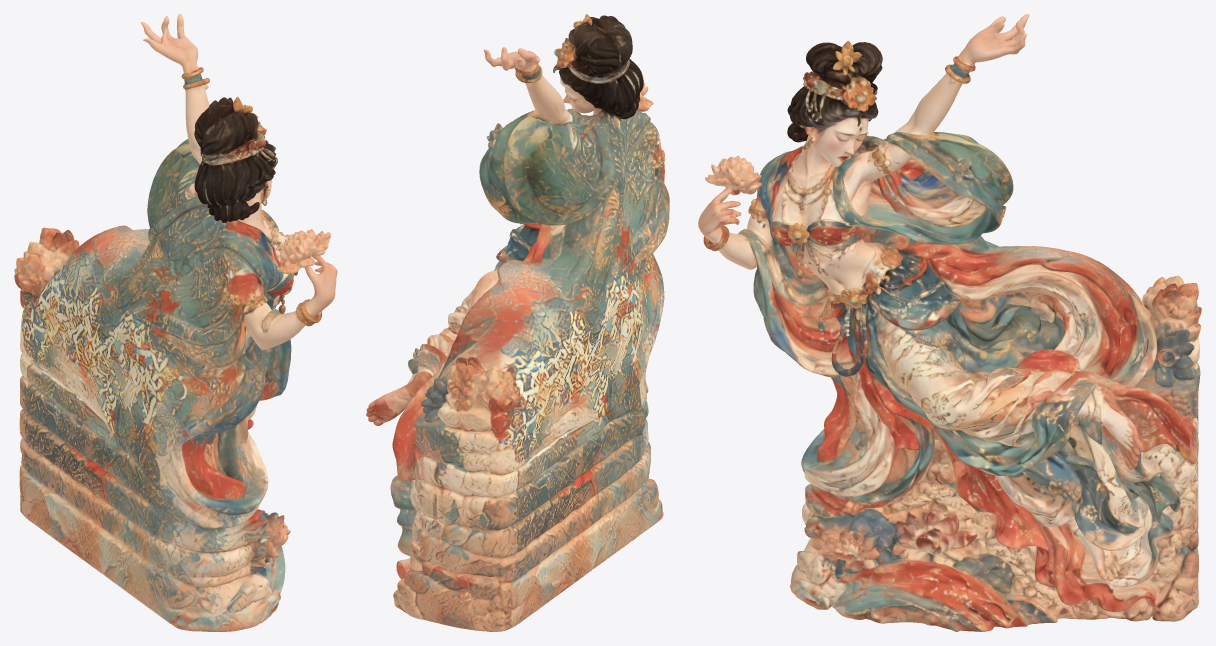
The model's file is apsara-web.glb.
The picture shows the model from 3 angles, left to right: view 1: azimuth 30°, elevation 25°; view 2: azimuth 150°, elevation 25°; view 3: azimuth 270°, elevation 25°; orthographic projection. The views are drawn at different scales.
Visible parts, largest first — view 1: model; view 2: model; view 3: model.
Part boxes in pixels (box(x1,y1,x2,y2)): model: box(14, 14, 337, 631); model: box(366, 14, 669, 631); model: box(698, 14, 1201, 631).
Bounding box in the file's own units: 0.6353 × 1.89 × 1.49.
Materials: 1 (1 with a texture image).
